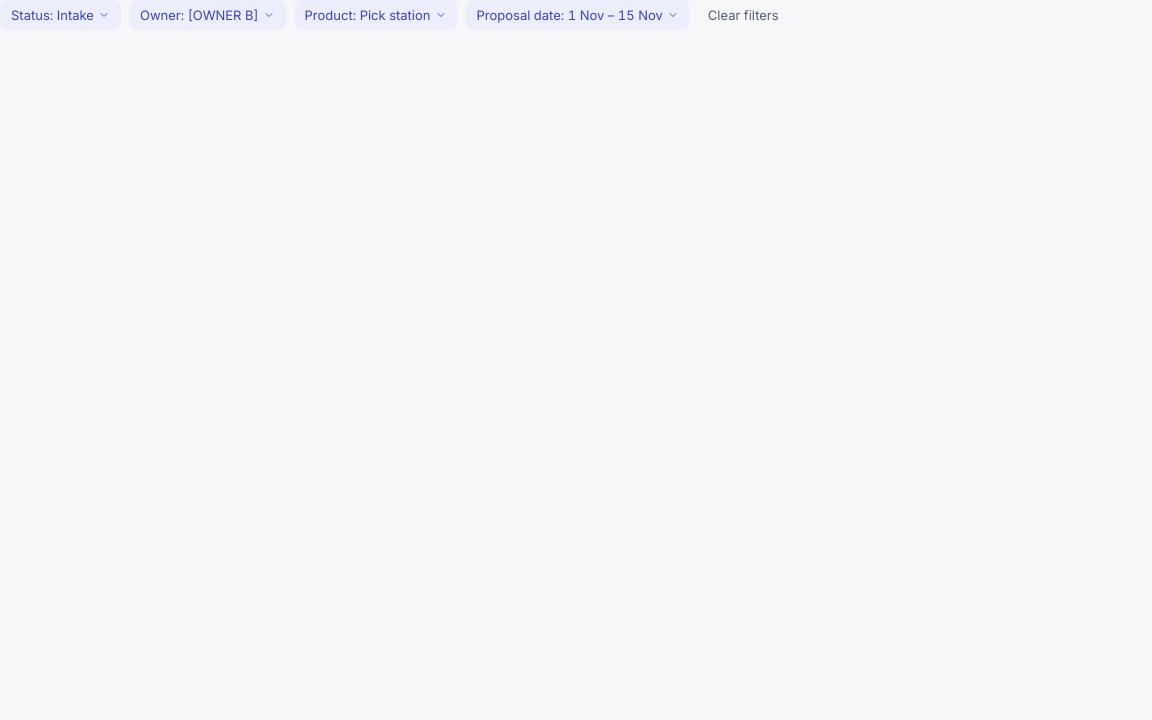
FilterBar › an applied filter shows its value on a solid chip, and inside its popover
Click the button "Status: Intake": point(60, 15) [0,0,121,30]
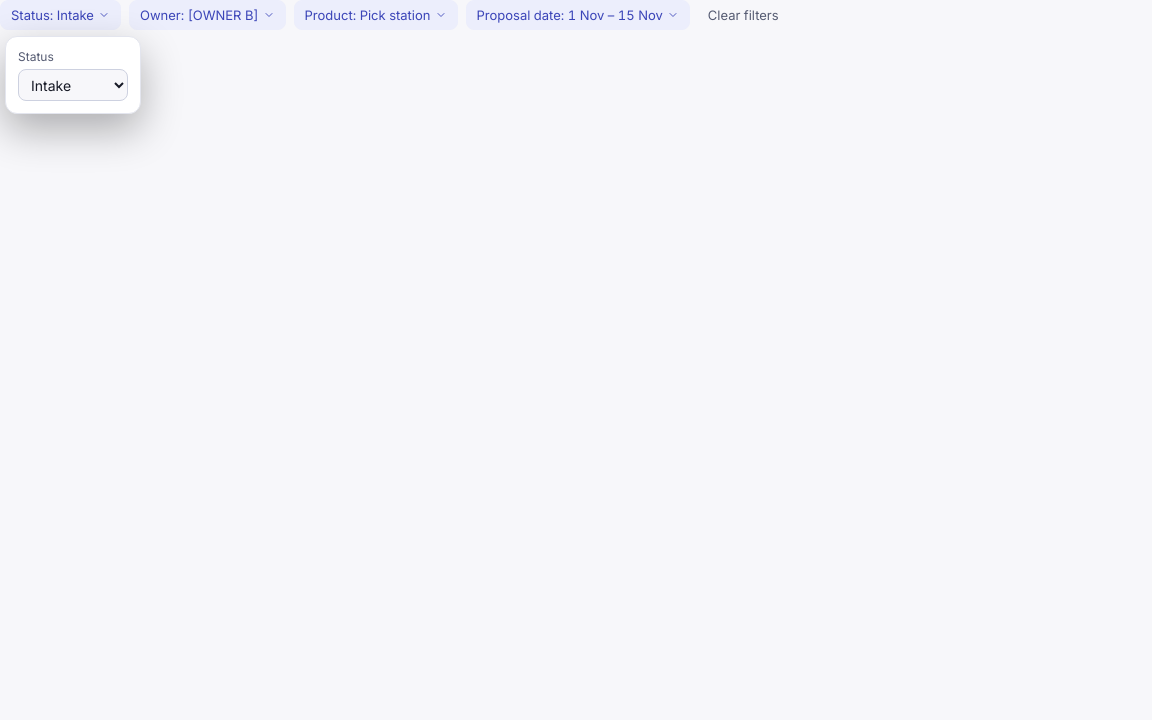
Result: the dropdown labelled "Status" shows "Intake" at [18,69,128,101]
Click the button "Owner: [OWNER B]": point(207, 15) [129,0,286,30]
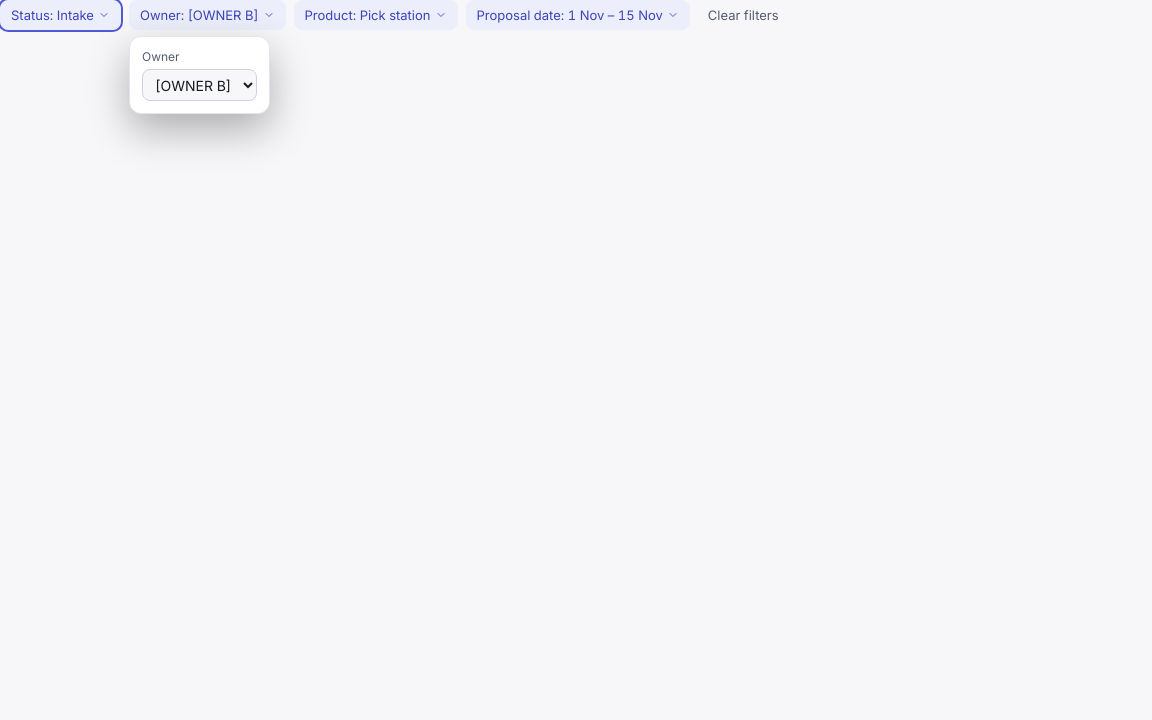
Result: the dropdown labelled "Owner" shows "[OWNER B]" at [142,69,257,101]
Click the button "Product: Pick station": point(376, 15) [294,0,458,30]
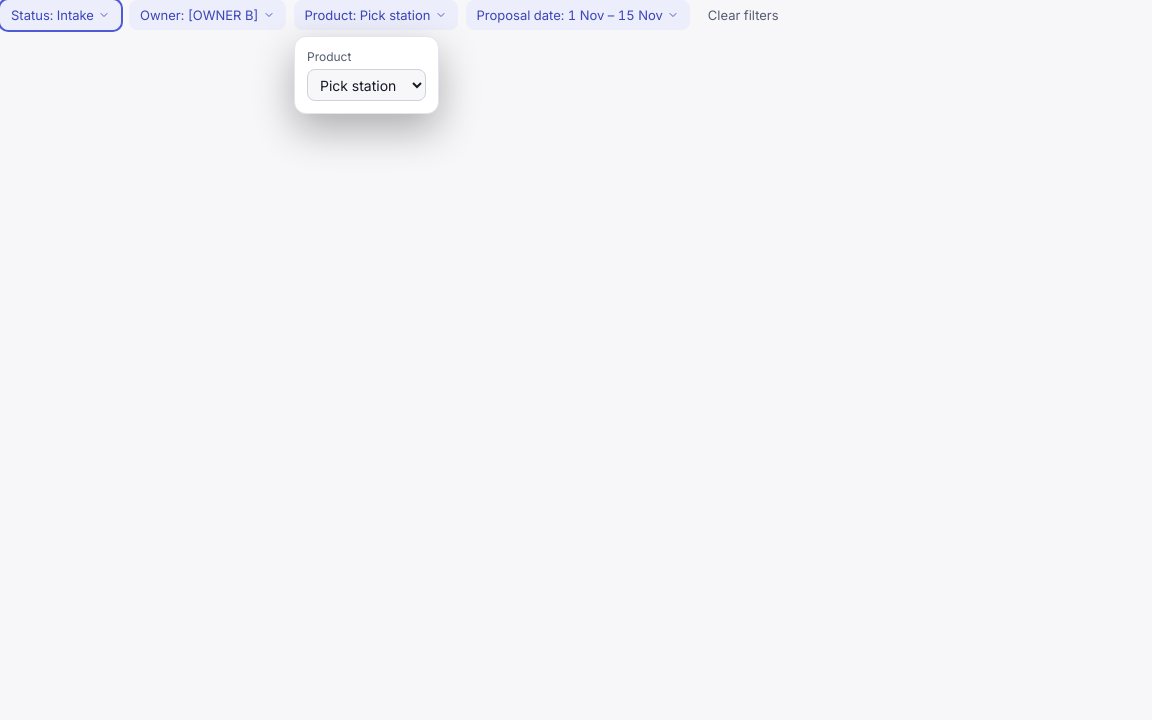
Result: the dropdown labelled "Product" shows "Pick station" at [307,69,426,101]
Click the button "Proposal date: 1 Nov – 15 Nov": point(578, 15) [466,0,690,30]
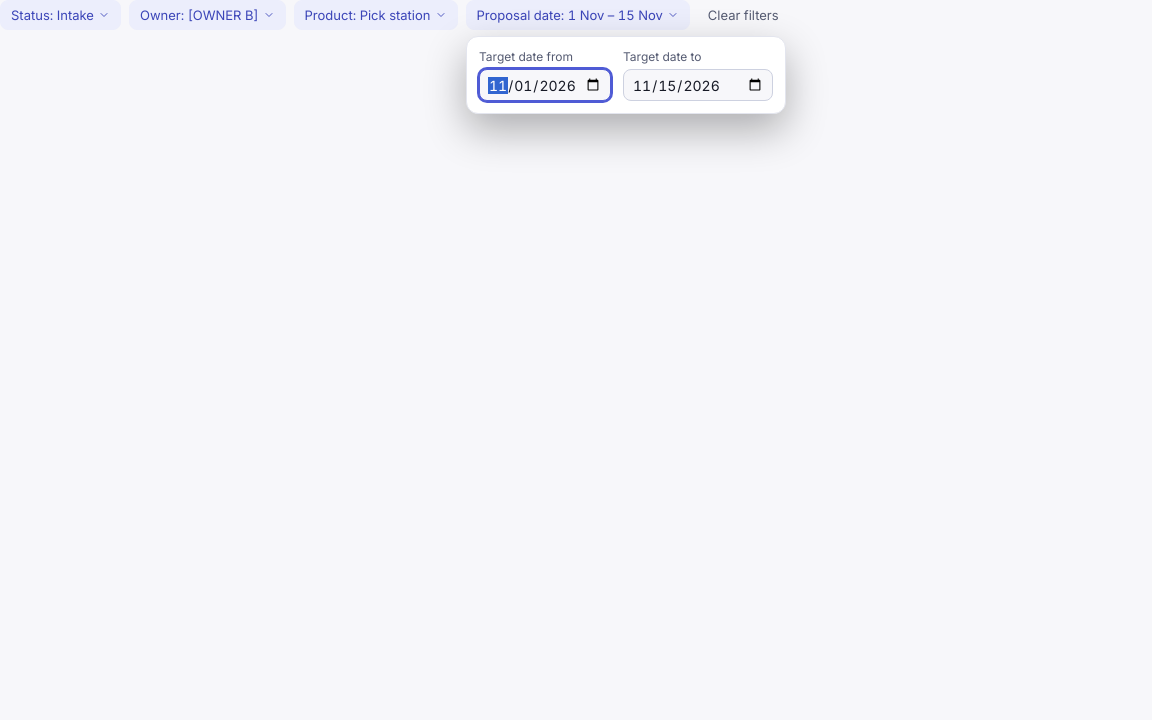
Result: the dialog named "Proposal date filter" is shown at [466,36,786,114]
Result: the date field labelled "Target date from" holds "2026-11-01" at [479,69,611,101]
